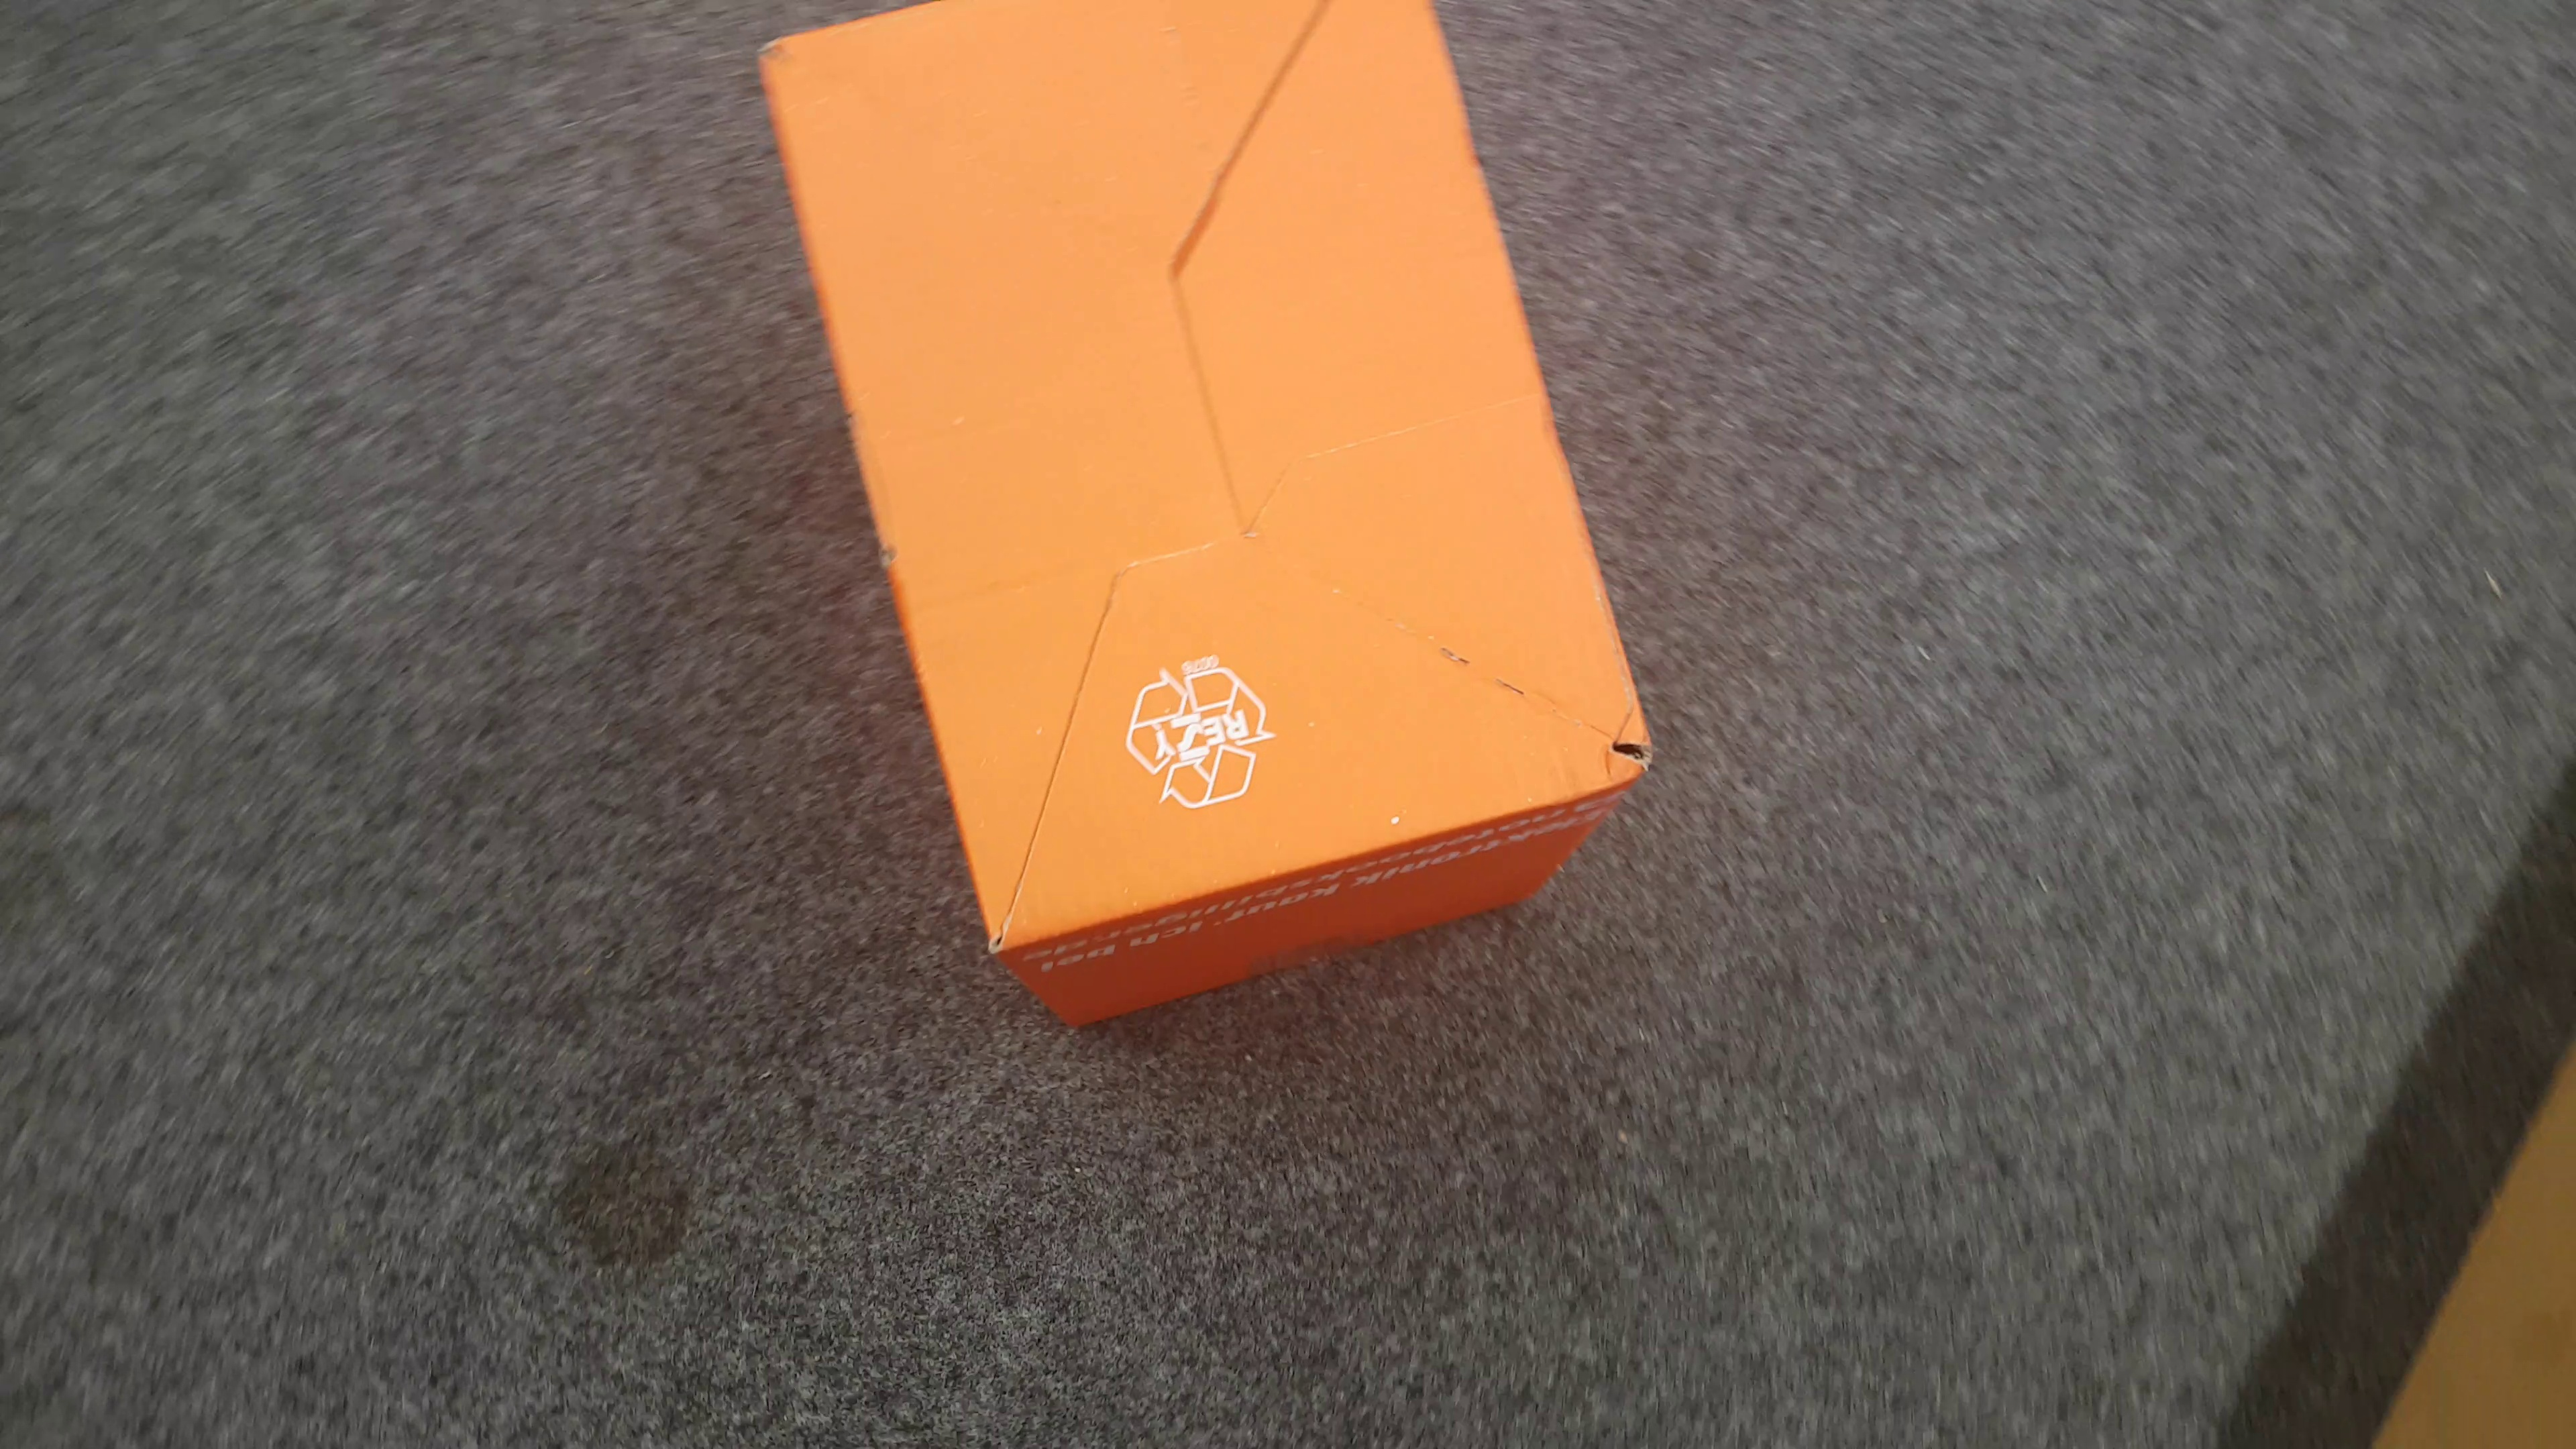push: (759, 2, 1665, 1026)
